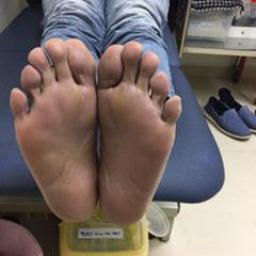Plantar View -Both Feet-: (3, 30, 186, 242)
